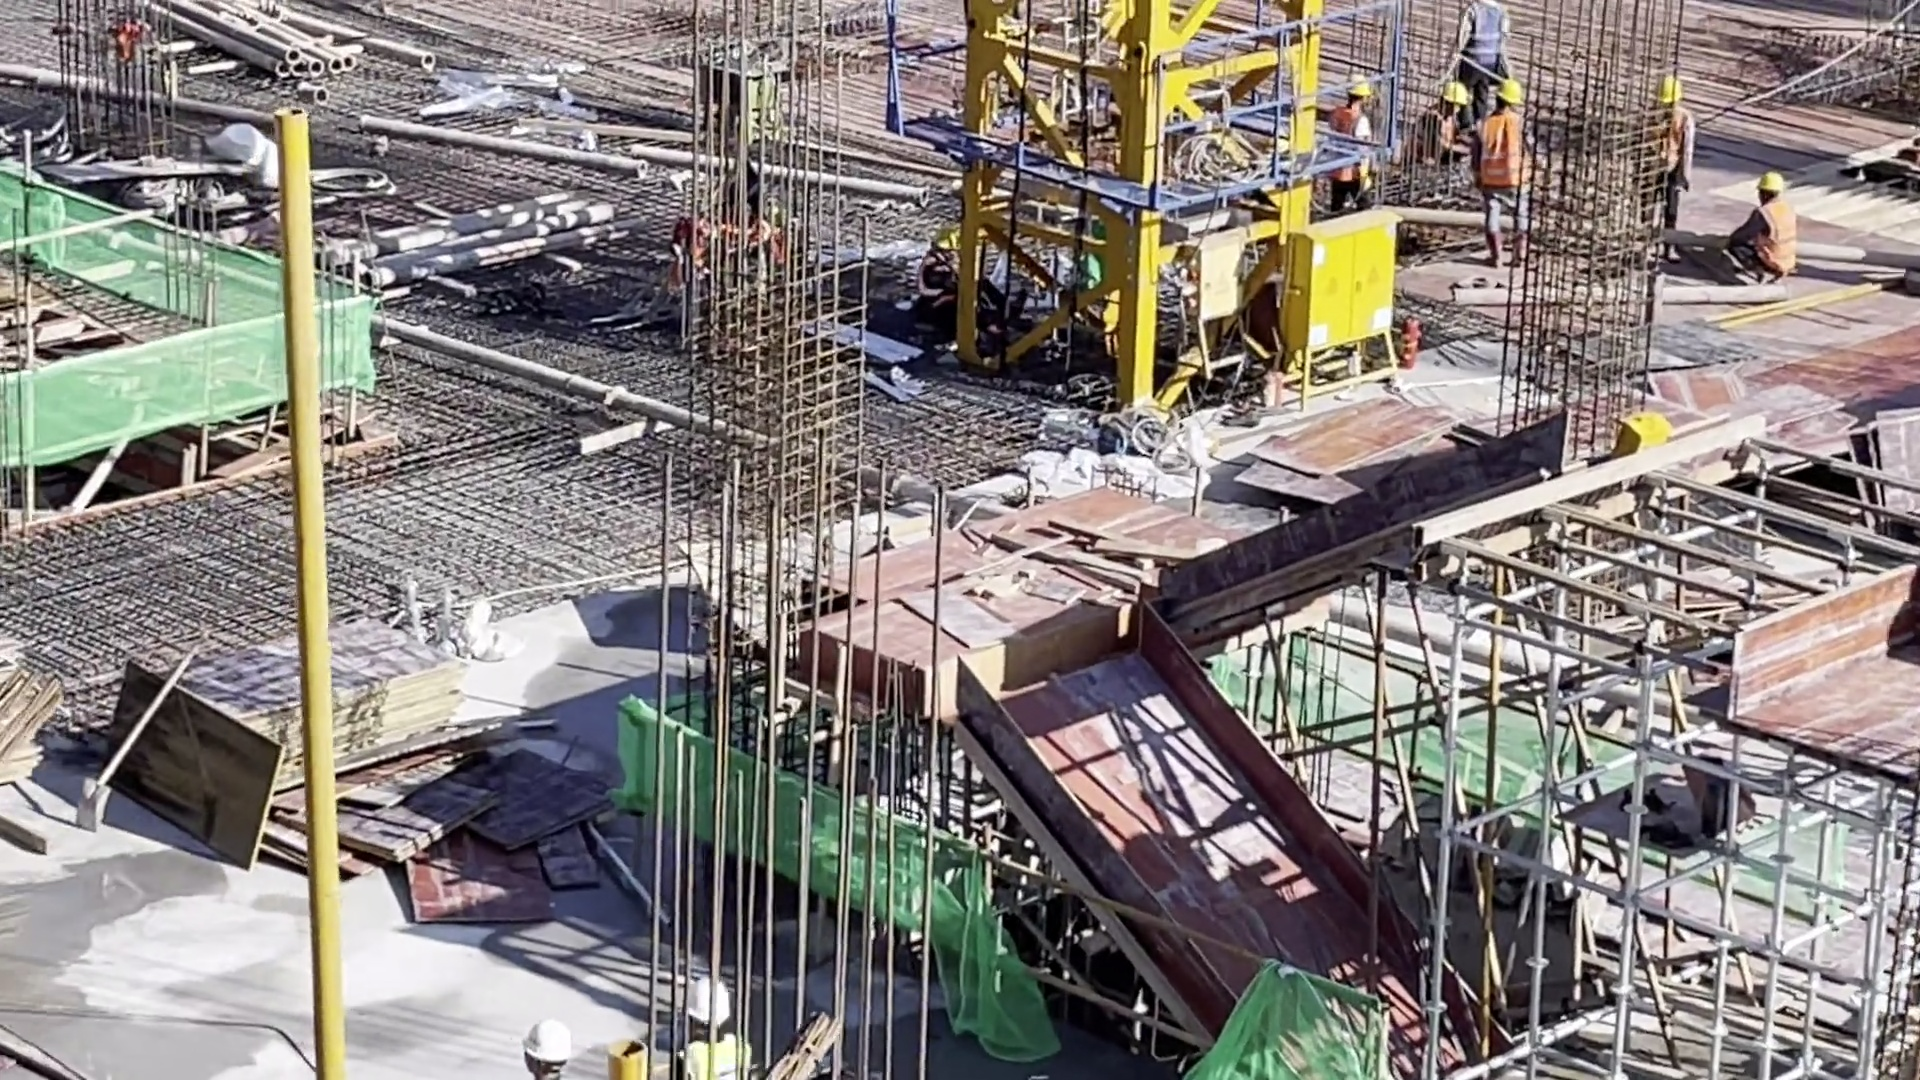helmet: (522, 1018, 573, 1066), (689, 976, 732, 1031), (1496, 80, 1523, 105), (1657, 75, 1682, 102), (1442, 81, 1469, 105), (1757, 172, 1784, 191), (1346, 79, 1369, 98)
person: (1470, 79, 1536, 269), (1633, 76, 1696, 225), (1724, 169, 1800, 286), (678, 974, 752, 1080), (1458, 1, 1512, 126), (1328, 73, 1379, 201), (1400, 78, 1470, 171)
vest: (1477, 113, 1527, 187), (1755, 201, 1797, 273), (1329, 106, 1363, 183), (1464, 1, 1498, 69)
